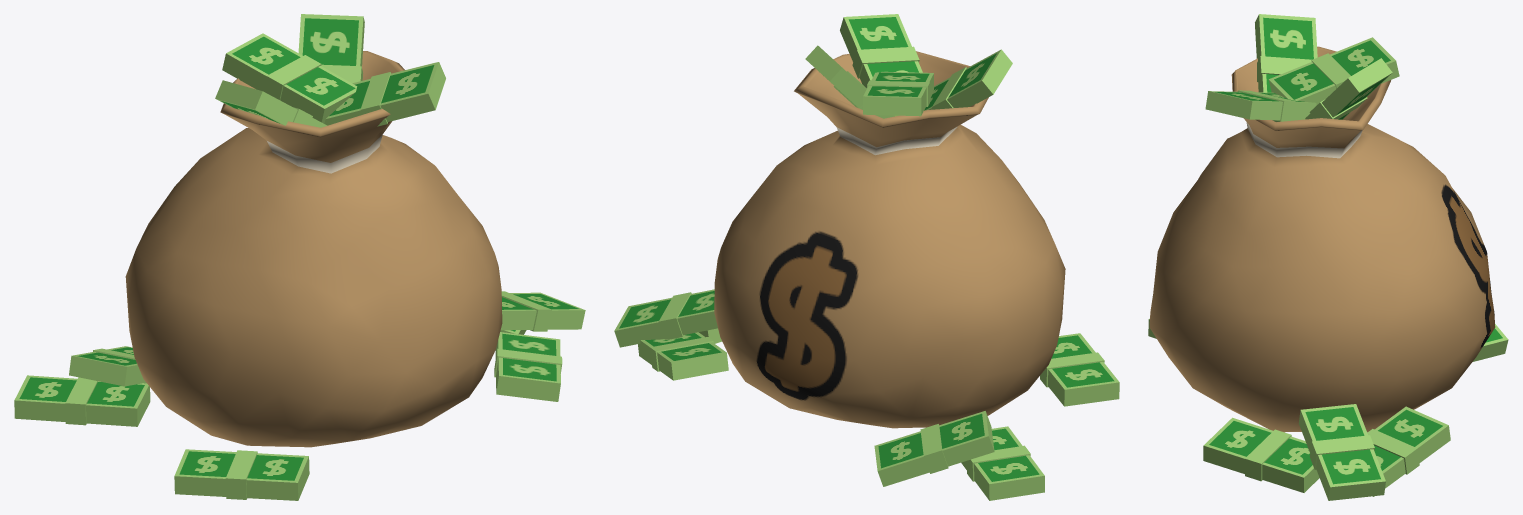
File: RV_Money.fbx
3 views of the same model, side by side, from view 1: azimuth 30°, elevation 25°; view 2: azimuth 150°, elevation 25°; view 3: azimuth 270°, elevation 25° (orthographic). The views are drawn at different scales.
Parts seen in each view (by area): view 1: RV_Money; view 2: RV_Money; view 3: RV_Money.
Part boxes in pixels (x1,y1,x2,y2): RV_Money: [14, 14, 585, 500]; RV_Money: [614, 14, 1119, 500]; RV_Money: [1148, 14, 1508, 500].
Size of the model in its own units: 234 by 164 by 155.
